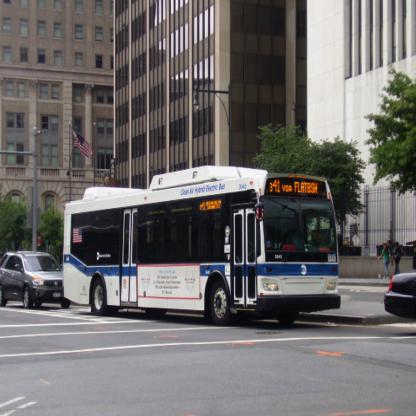Bus: (61, 160, 345, 328)
